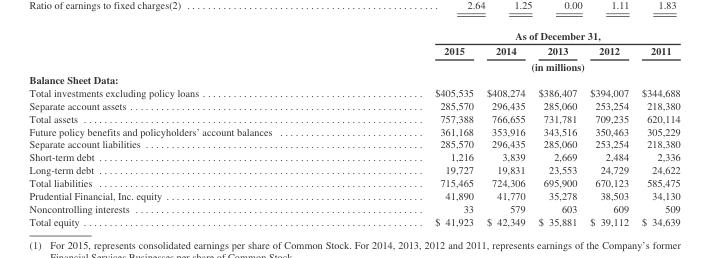table: (28, 29, 679, 227)
table column: (28, 29, 352, 227), (352, 29, 479, 227), (479, 29, 531, 227), (582, 29, 634, 227), (531, 29, 582, 227), (634, 29, 679, 227)
table column header: (28, 29, 679, 72)
table projected row header: (28, 72, 679, 85)
table row: (28, 43, 679, 58), (28, 29, 679, 43), (28, 58, 679, 72), (28, 72, 679, 85), (28, 85, 679, 98), (28, 98, 679, 111), (28, 111, 679, 124), (28, 124, 679, 137), (28, 137, 679, 150), (28, 150, 679, 163), (28, 163, 679, 176), (28, 176, 679, 189), (28, 189, 679, 202), (28, 202, 679, 215), (28, 215, 679, 227)
table spanning cell: (352, 29, 679, 43), (352, 58, 679, 72)
